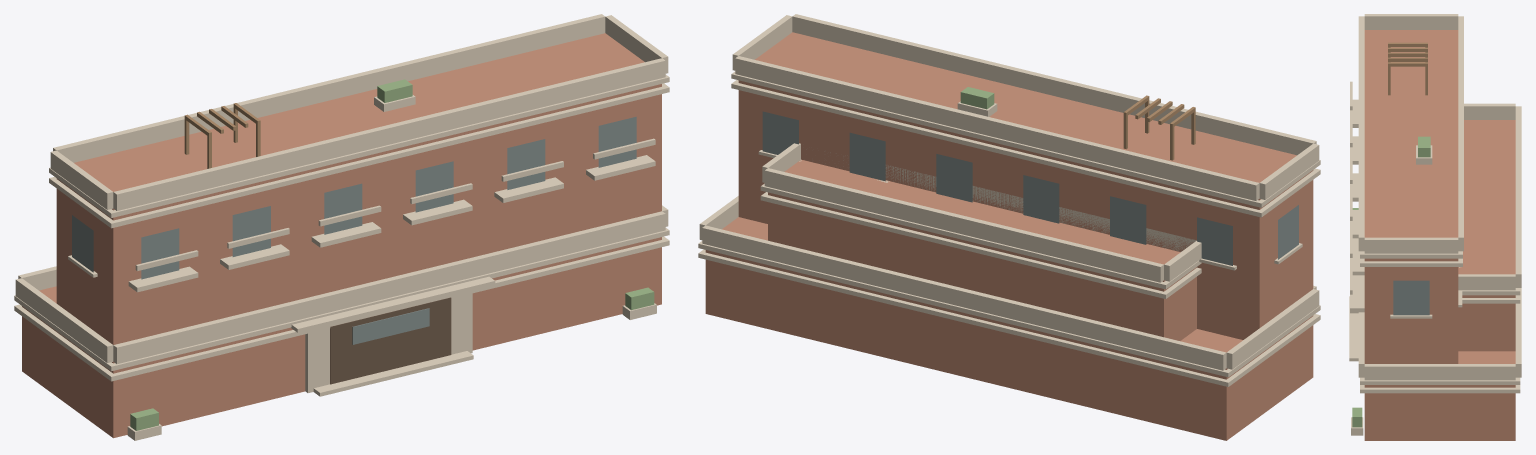
File: residential_3x1_court.glb
The picture shows the model from 3 angles, left to right: view 1: azimuth 30°, elevation 25°; view 2: azimuth 150°, elevation 25°; view 3: azimuth 270°, elevation 25°; orthographic projection. The views are drawn at different scales.
Visible parts, largest first — view 1: residential_3x1_court_0; view 2: residential_3x1_court_0; view 3: residential_3x1_court_0.
Boxes of the visible parts, x1,y1,x2,y2 form: residential_3x1_court_0: (14,14,669,440); residential_3x1_court_0: (698,14,1320,440); residential_3x1_court_0: (1349,14,1521,440).
Size of the model in its own units: 23 by 10.5 by 7.4.
